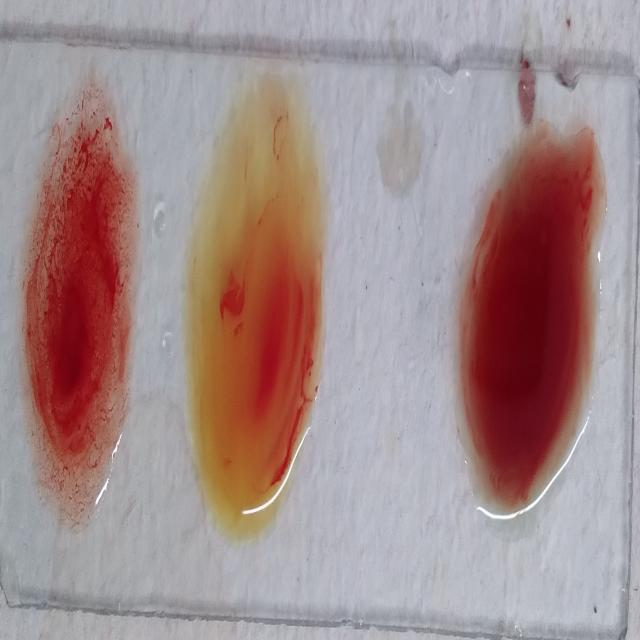D: (25, 86, 130, 509)
